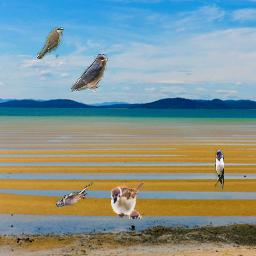Cuckoo: (54, 181, 94, 207), (37, 27, 64, 59)
Sparrow: (111, 182, 145, 219)
Swallow: (71, 54, 108, 94), (215, 150, 224, 190)
